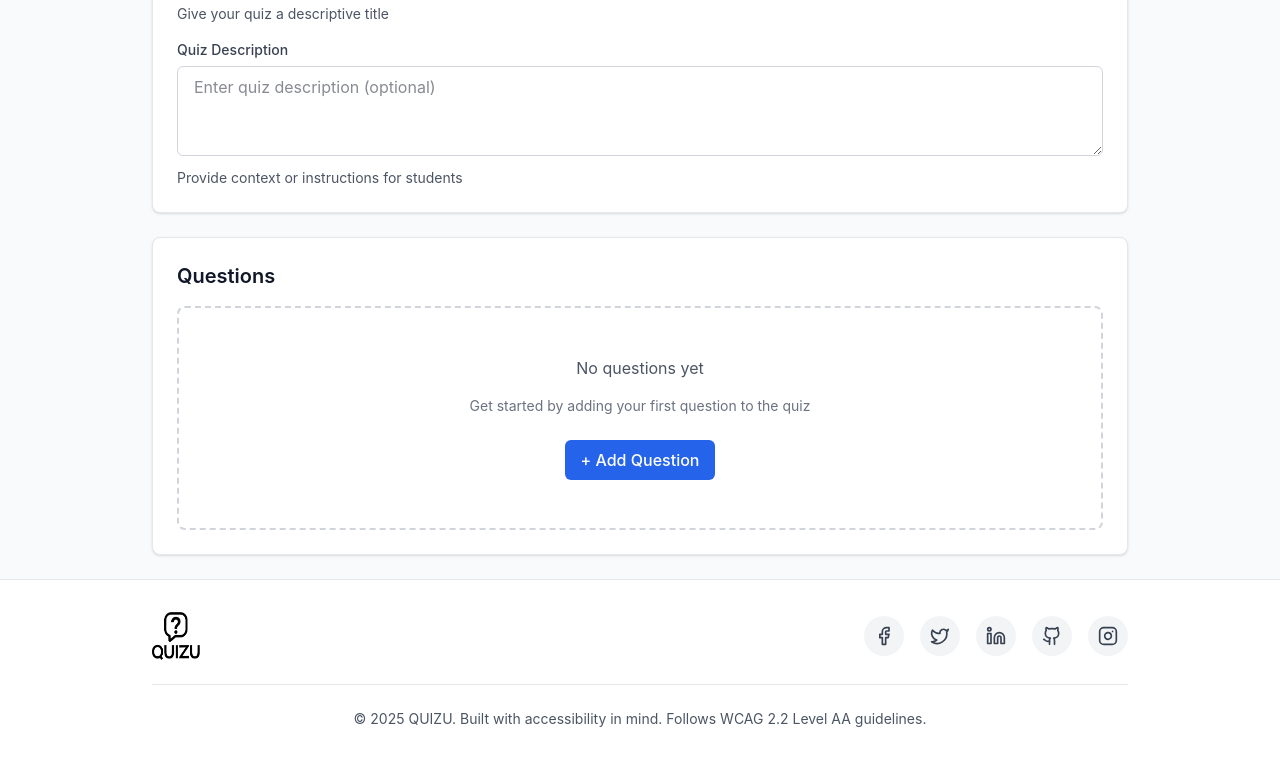
Test: Quiz Builder Integration Tests › Add/Remove Questions › should remove a question from the quiz
The image size is (1280, 761).
(page scrolled)
Click the button with aria-label "add first question" at (640, 460), box x1=564 y1=440 x2=715 y2=480
(page scrolled)
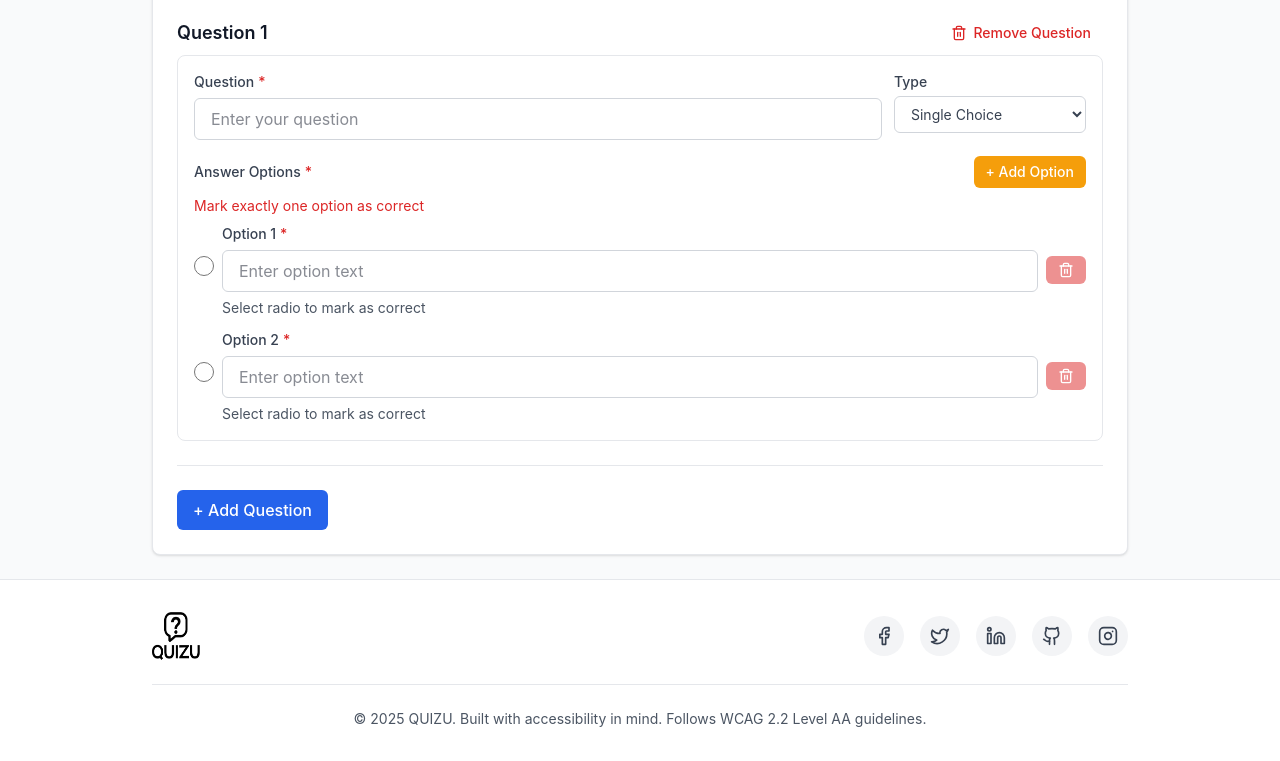
Click the button with aria-label "add new question" at (252, 510), box x1=177 y1=490 x2=328 y2=530
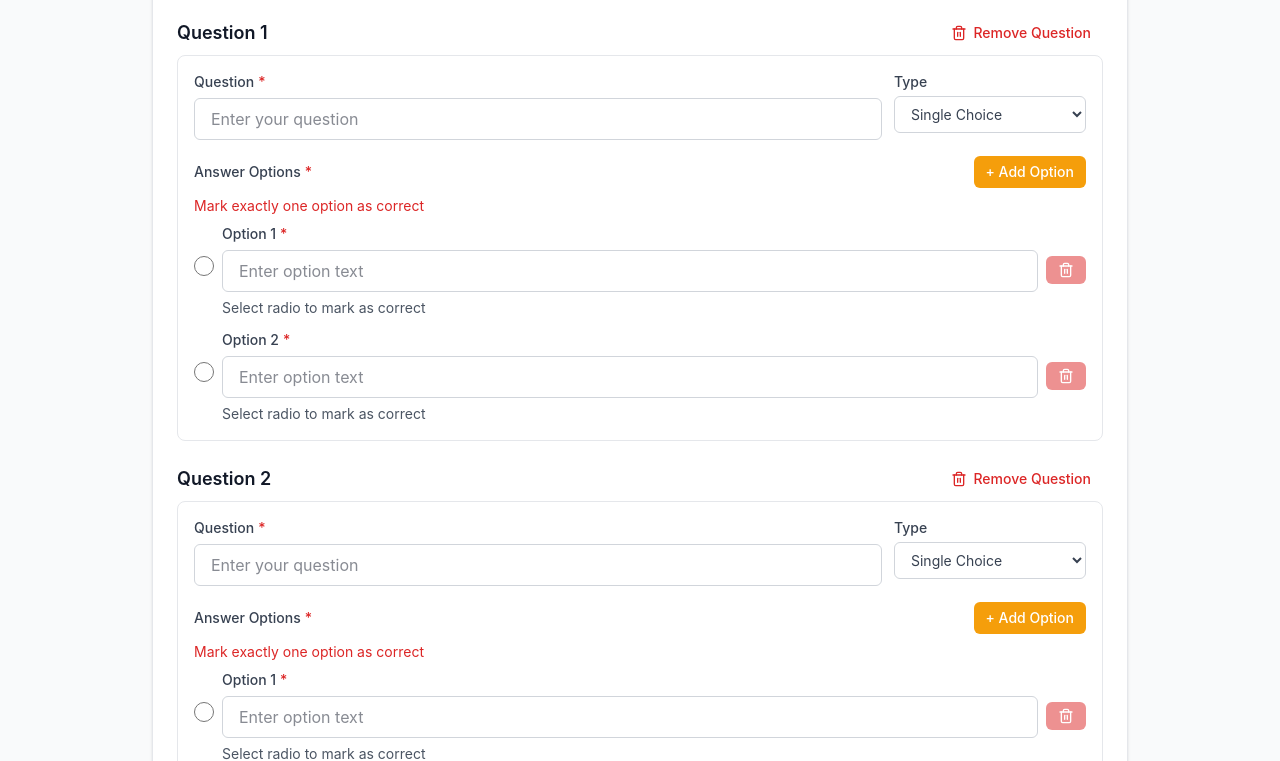
Expected: the heading "Question 1" is shown, x1=177 y1=19 x2=268 y2=47
Expected: the heading "Question 2" is shown, x1=177 y1=465 x2=271 y2=493
Click the 1st button "Remove Question" at (1021, 33), box x1=939 y1=19 x2=1103 y2=47
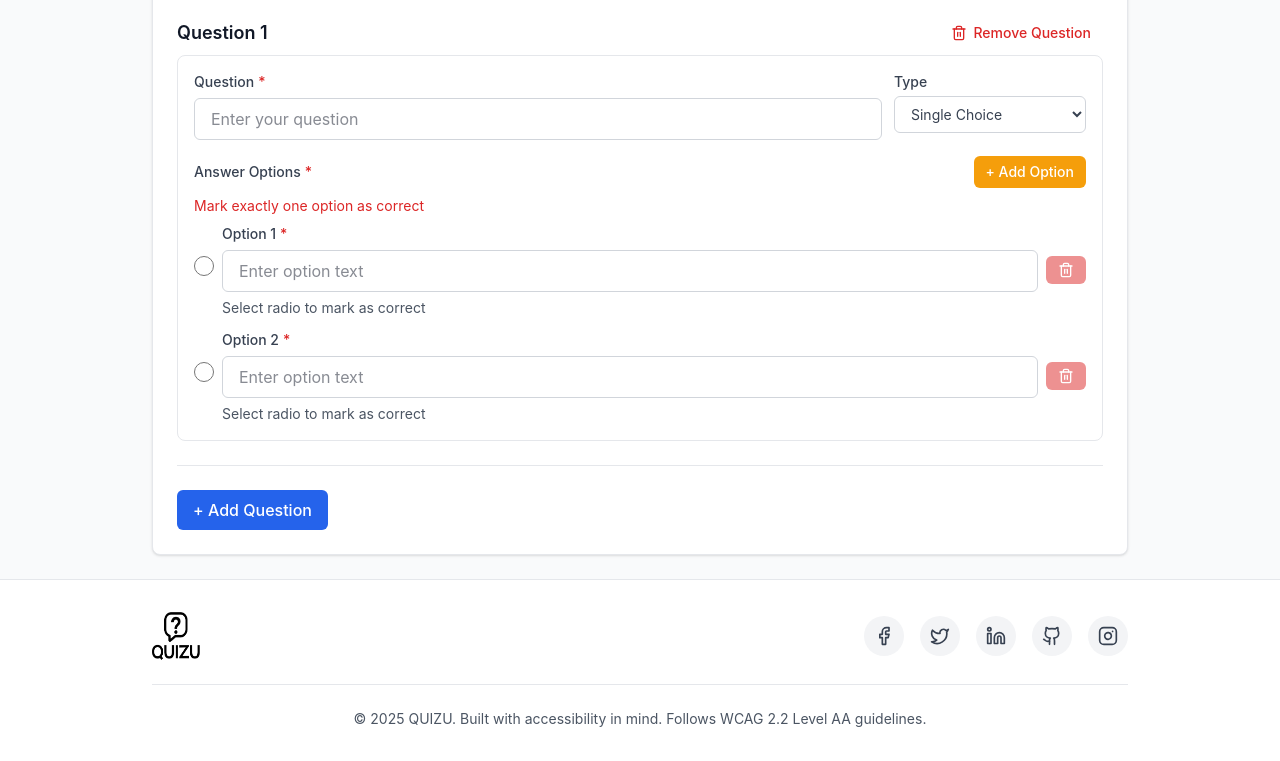
Expected: the heading "Question 1" is shown, x1=177 y1=19 x2=268 y2=47
Expected: the heading "Question 2" is gone
